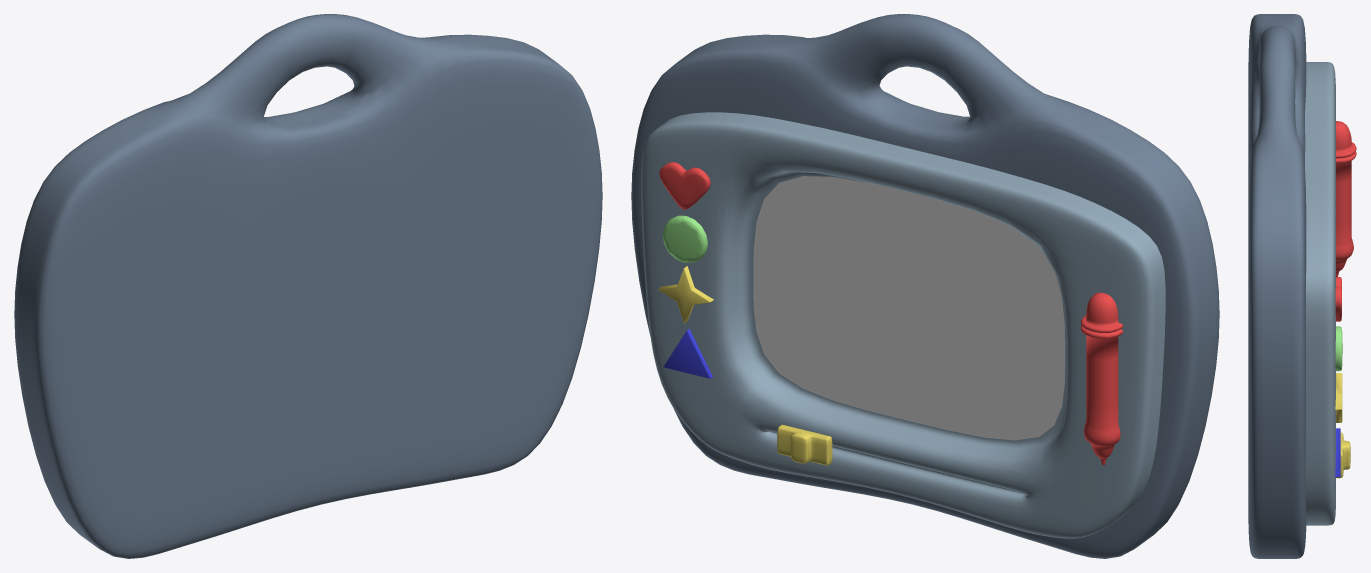
File: PizarraInicio.fbx
3 views of the same model, side by side, from view 1: azimuth 30°, elevation 25°; view 2: azimuth 150°, elevation 25°; view 3: azimuth 270°, elevation 25° (orthographic). The views are drawn at different scales.
Visible parts, largest first — view 1: Tableta; view 2: Tableta, Cube.015, Cube.018, Circle.002, Plane.003, Plane.004, Plane.005; view 3: Tableta, Cube.015, Cube.018, Plane.005, Circle.002, Plane.003, Plane.004.
Part boxes in pixels (x1,y1,x2,y2): Tableta: (14,14,602,558); Tableta: (631,14,1219,558); Cube.015: (1081,292,1122,465); Cube.018: (777,424,832,465); Circle.002: (662,215,707,262); Plane.003: (659,162,710,209); Plane.004: (663,329,712,378); Plane.005: (658,266,713,323); Tableta: (1248,14,1335,558); Cube.015: (1336,121,1356,276); Cube.018: (1336,432,1350,478); Plane.005: (1335,373,1342,422); Circle.002: (1335,326,1342,371); Plane.003: (1335,277,1341,321); Plane.004: (1335,428,1340,477).
Bounding box in the file's own units: 0.2399 × 0.0442 × 0.1978.
